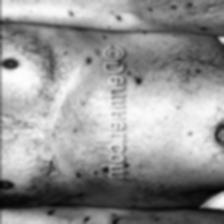Non-Cancerous Skin Condition: (40, 207, 91, 224), (148, 210, 206, 224), (72, 164, 106, 187), (155, 0, 200, 17), (103, 8, 133, 26), (58, 4, 80, 22), (128, 71, 146, 90), (0, 0, 14, 24), (79, 53, 98, 66)
